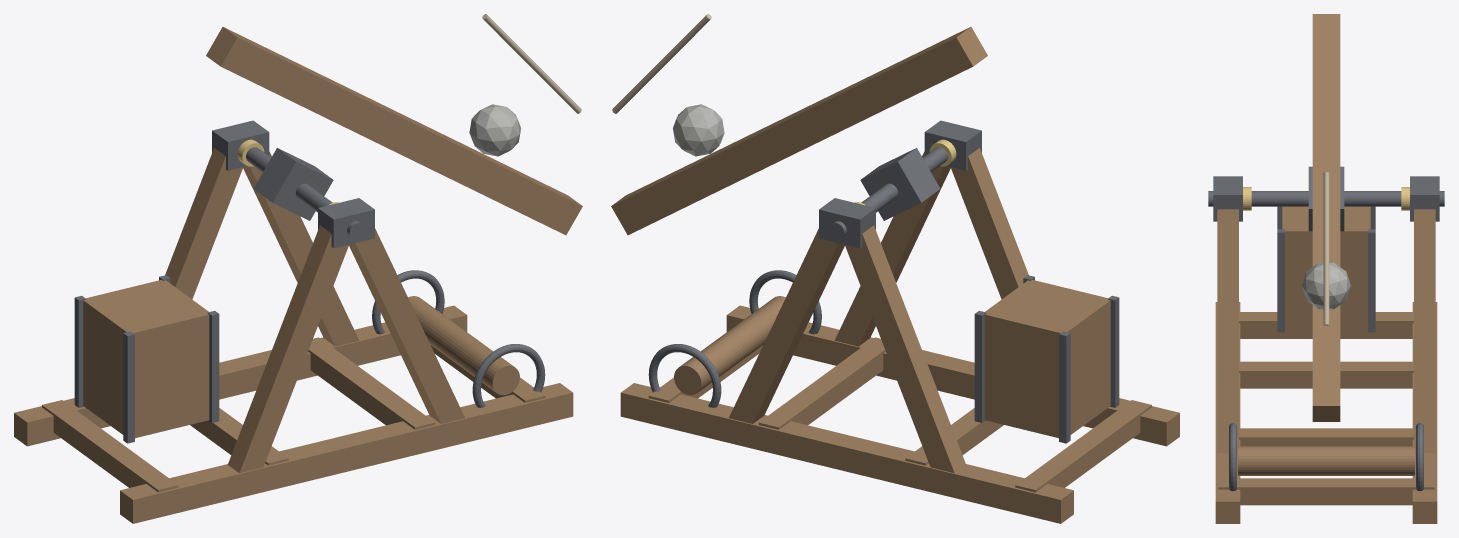
The model's file is trebuchet_siege.glb.
The picture shows the model from 3 angles, left to right: view 1: azimuth 30°, elevation 25°; view 2: azimuth 150°, elevation 25°; view 3: azimuth 270°, elevation 25°; orthographic projection. The views are drawn at different scales.
Parts seen in each view (by area): view 1: Cube.014, Cube, Cube.012, Cube.006, Cube.007, Cube.001, Cube.009, Cube.002, Cube.004, Cube.010, Cylinder.004, Cube.013 (+12 smaller); view 2: Cube.014, Cube.001, Cube.012, Cube.009, Cube.010, Cube, Cube.006, Cube.002, Cube.004, Cube.007, Cylinder.004, Cube.013 (+12 smaller); view 3: Cube.012, Cube.014, Cylinder.004, Cube.005, Cube.007, Cube.010, Cube.003, Cube.004, Cube.002, Cylinder, Cube, Cube.001 (+9 smaller).
Part boxes in pixels (<box>): Cube.014: <box>83,280,209,438</box>; Cube: <box>120,383,573,523</box>; Cube.012: <box>206,27,582,235</box>; Cube.006: <box>228,225,348,473</box>; Cube.007: <box>349,228,464,423</box>; Cube.001: <box>14,305,467,446</box>; Cube.009: <box>165,148,243,299</box>; Cube.002: <box>42,400,178,492</box>; Cube.004: <box>308,337,435,429</box>; Cube.010: <box>243,151,359,346</box>; Cylinder.004: <box>408,296,519,395</box>; Cube.013: <box>253,148,333,220</box>; Cube.014: <box>984,280,1110,438</box>; Cube.001: <box>620,383,1073,523</box>; Cube.012: <box>611,27,987,235</box>; Cube.009: <box>845,225,965,473</box>; Cube.010: <box>729,228,844,423</box>; Cube: <box>726,305,1179,446</box>; Cube.006: <box>950,148,1028,299</box>; Cube.002: <box>1015,400,1151,492</box>; Cube.004: <box>758,337,885,429</box>; Cube.007: <box>834,151,950,346</box>; Cylinder.004: <box>674,296,785,395</box>; Cube.013: <box>860,148,940,220</box>; Cube.012: <box>1312,14,1340,421</box>; Cube.014: <box>1282,206,1370,329</box>; Cylinder.004: <box>1238,446,1414,475</box>; Cube.005: <box>1218,478,1434,505</box>; Cube.007: <box>1217,209,1238,452</box>; Cube.010: <box>1414,209,1435,452</box>; Cube.003: <box>1239,361,1413,388</box>; Cube.004: <box>1239,428,1413,446</box>; Cube.002: <box>1239,312,1413,338</box>; Cylinder: <box>1208,191,1444,206</box>; Cube: <box>1215,302,1240,523</box>; Cube.001: <box>1412,302,1437,523</box>.
Bounding box in the file's own units: 5.54 × 4.28 × 2.4.
